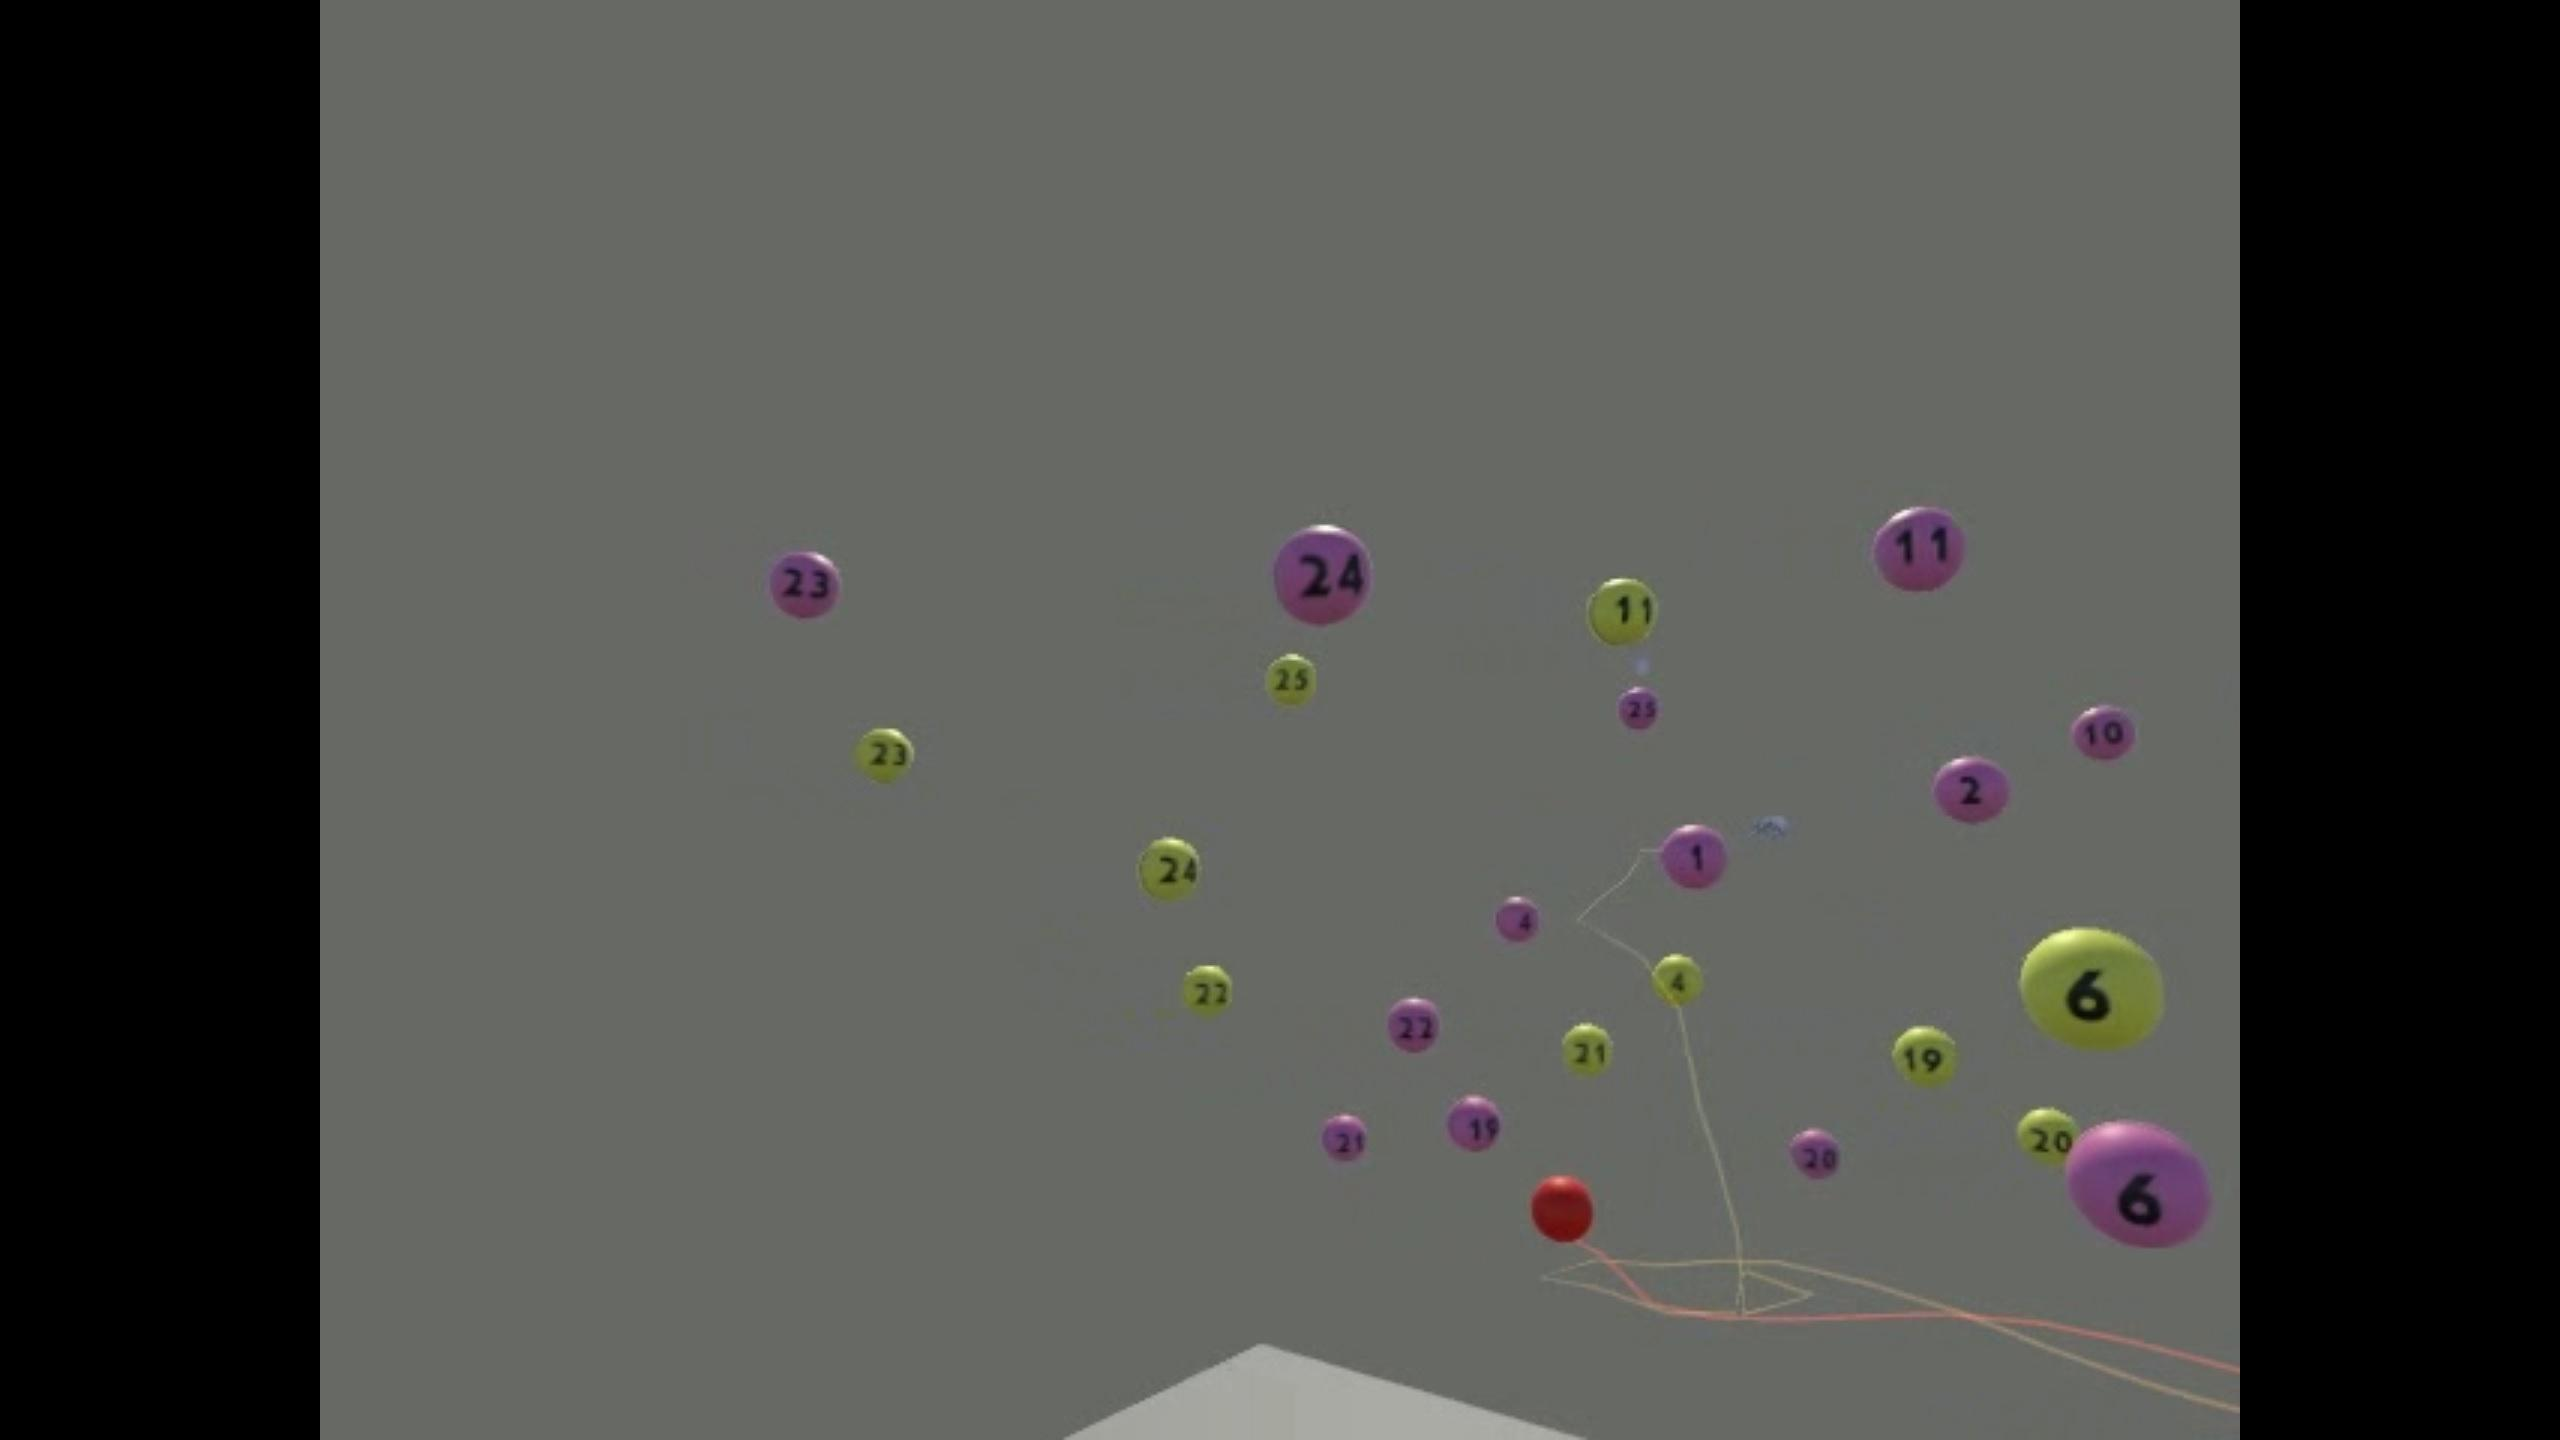ball_01_pink: (1660, 825, 1725, 890)
ball_02_pink: (1932, 756, 2010, 823)
ball_04_pink: (1495, 897, 1542, 942)
ball_04_yellow: (1651, 951, 1705, 1004)
ball_06_pink: (2069, 1120, 2208, 1247)
ball_06_yellow: (2018, 928, 2164, 1050)
ball_10_pink: (2073, 703, 2133, 760)
ball_11_pink: (1873, 506, 1966, 591)
ball_11_yellow: (1588, 577, 1658, 645)
ball_19_yellow: (1892, 1023, 1957, 1085)
ball_20_pink: (1788, 1129, 1841, 1180)
ball_20_yellow: (2018, 1106, 2078, 1164)
ball_21_pink: (1322, 1113, 1370, 1159)
ball_21_yellow: (1561, 1025, 1612, 1073)
ball_22_pink: (1387, 997, 1442, 1051)
ball_22_yellow: (1182, 964, 1234, 1016)
ball_23_pink: (772, 552, 840, 619)
ball_23_yellow: (856, 726, 914, 781)
ball_24_pink: (1273, 526, 1371, 626)
ball_24_yellow: (1136, 837, 1201, 898)
ball_25_pink: (1618, 686, 1660, 730)
ball_25_yellow: (1264, 654, 1319, 705)
ball_unknown: (1531, 1176, 1593, 1241), (1447, 1097, 1500, 1150)
